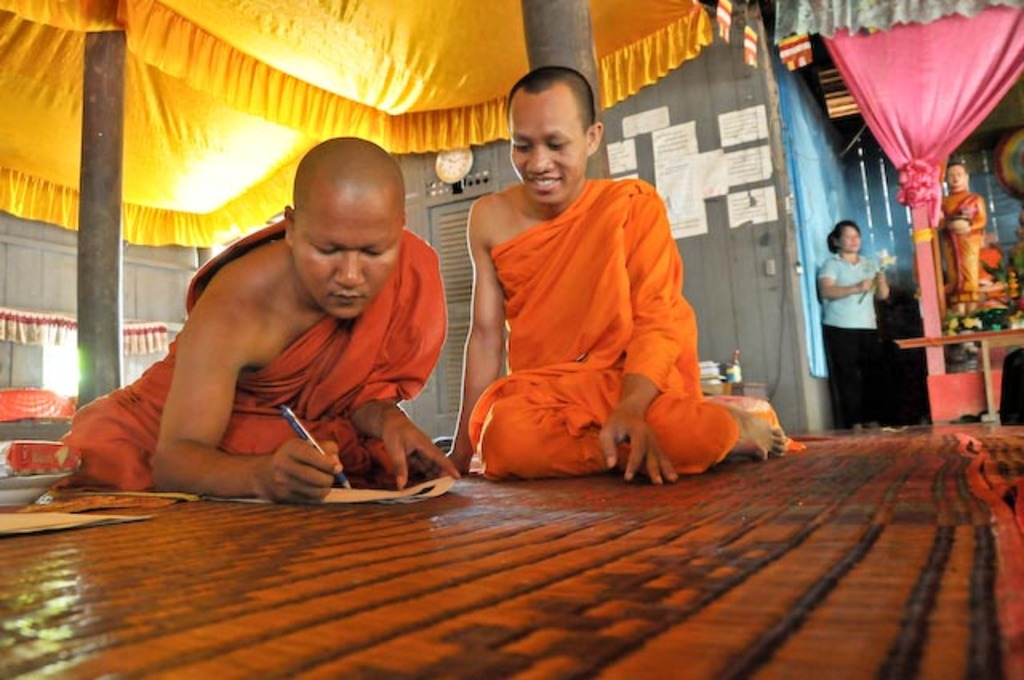Person: (816, 220, 892, 432), (940, 163, 987, 314)
